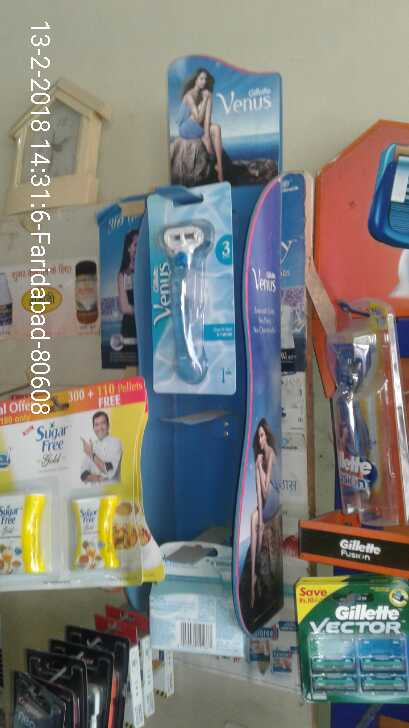beauty: (311, 320, 398, 533), (146, 222, 230, 392), (296, 598, 409, 697)
